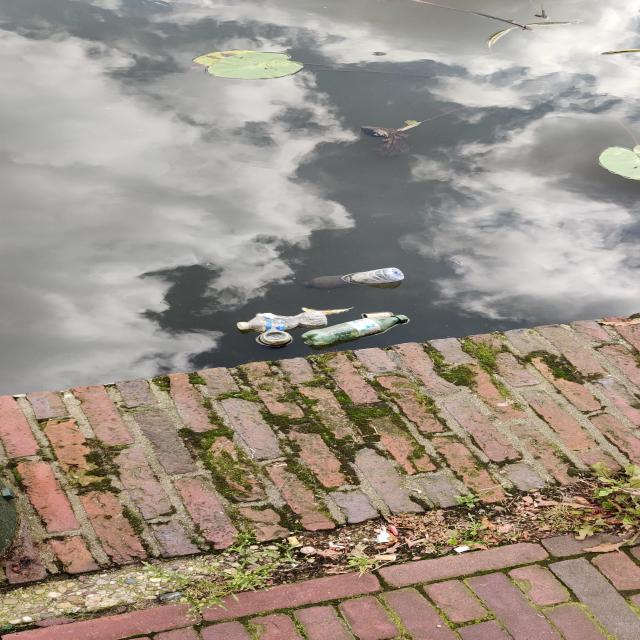litter: (161, 242, 492, 368)
